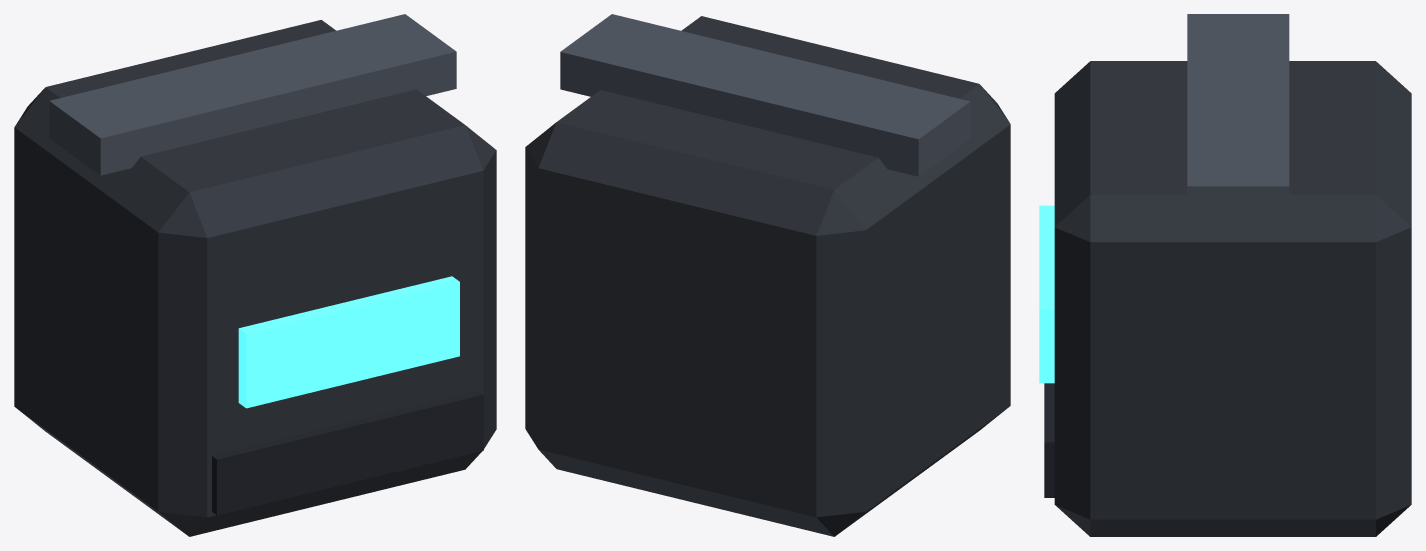
Rendered from hat_welder.glb.
3 views of the same model, side by side, from view 1: azimuth 30°, elevation 25°; view 2: azimuth 150°, elevation 25°; view 3: azimuth 270°, elevation 25° (orthographic).
Visible parts, largest first — view 1: hat_welder; view 2: hat_welder; view 3: hat_welder.
Part boxes in pixels (x1,y1,x2,y2): hat_welder: [14, 14, 496, 536]; hat_welder: [525, 14, 1010, 536]; hat_welder: [1039, 14, 1411, 536].
Size of the model in its own units: 0.8 by 0.8 by 0.73.
